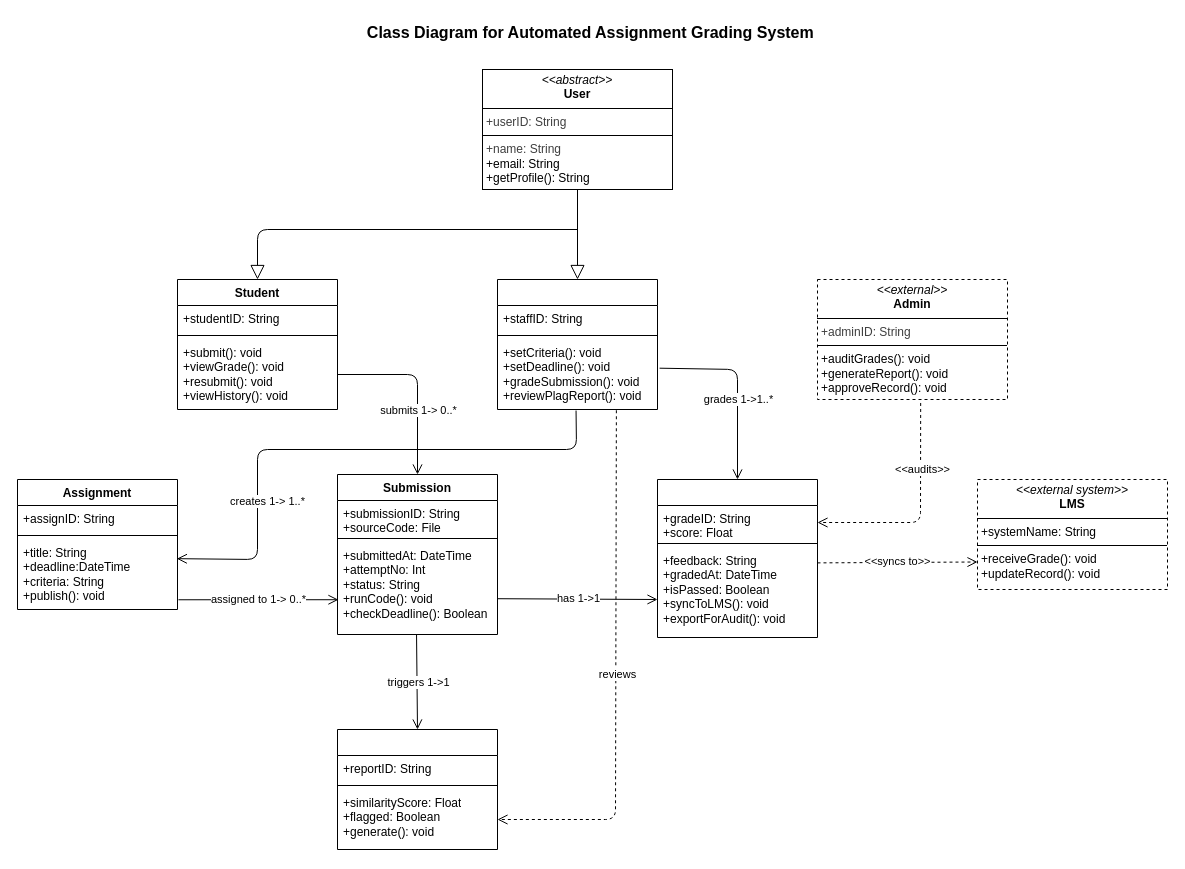
The diagram is 1185 pixels wide and 869 high, and some of its shapes have lost their labels. The box of each missing label's shape, as (x1, y1, x2, y2) in pixels:
GradeRecord: (656, 478, 818, 638)
PlagiarismReport: (336, 728, 498, 850)
Professor: (496, 278, 658, 410)
